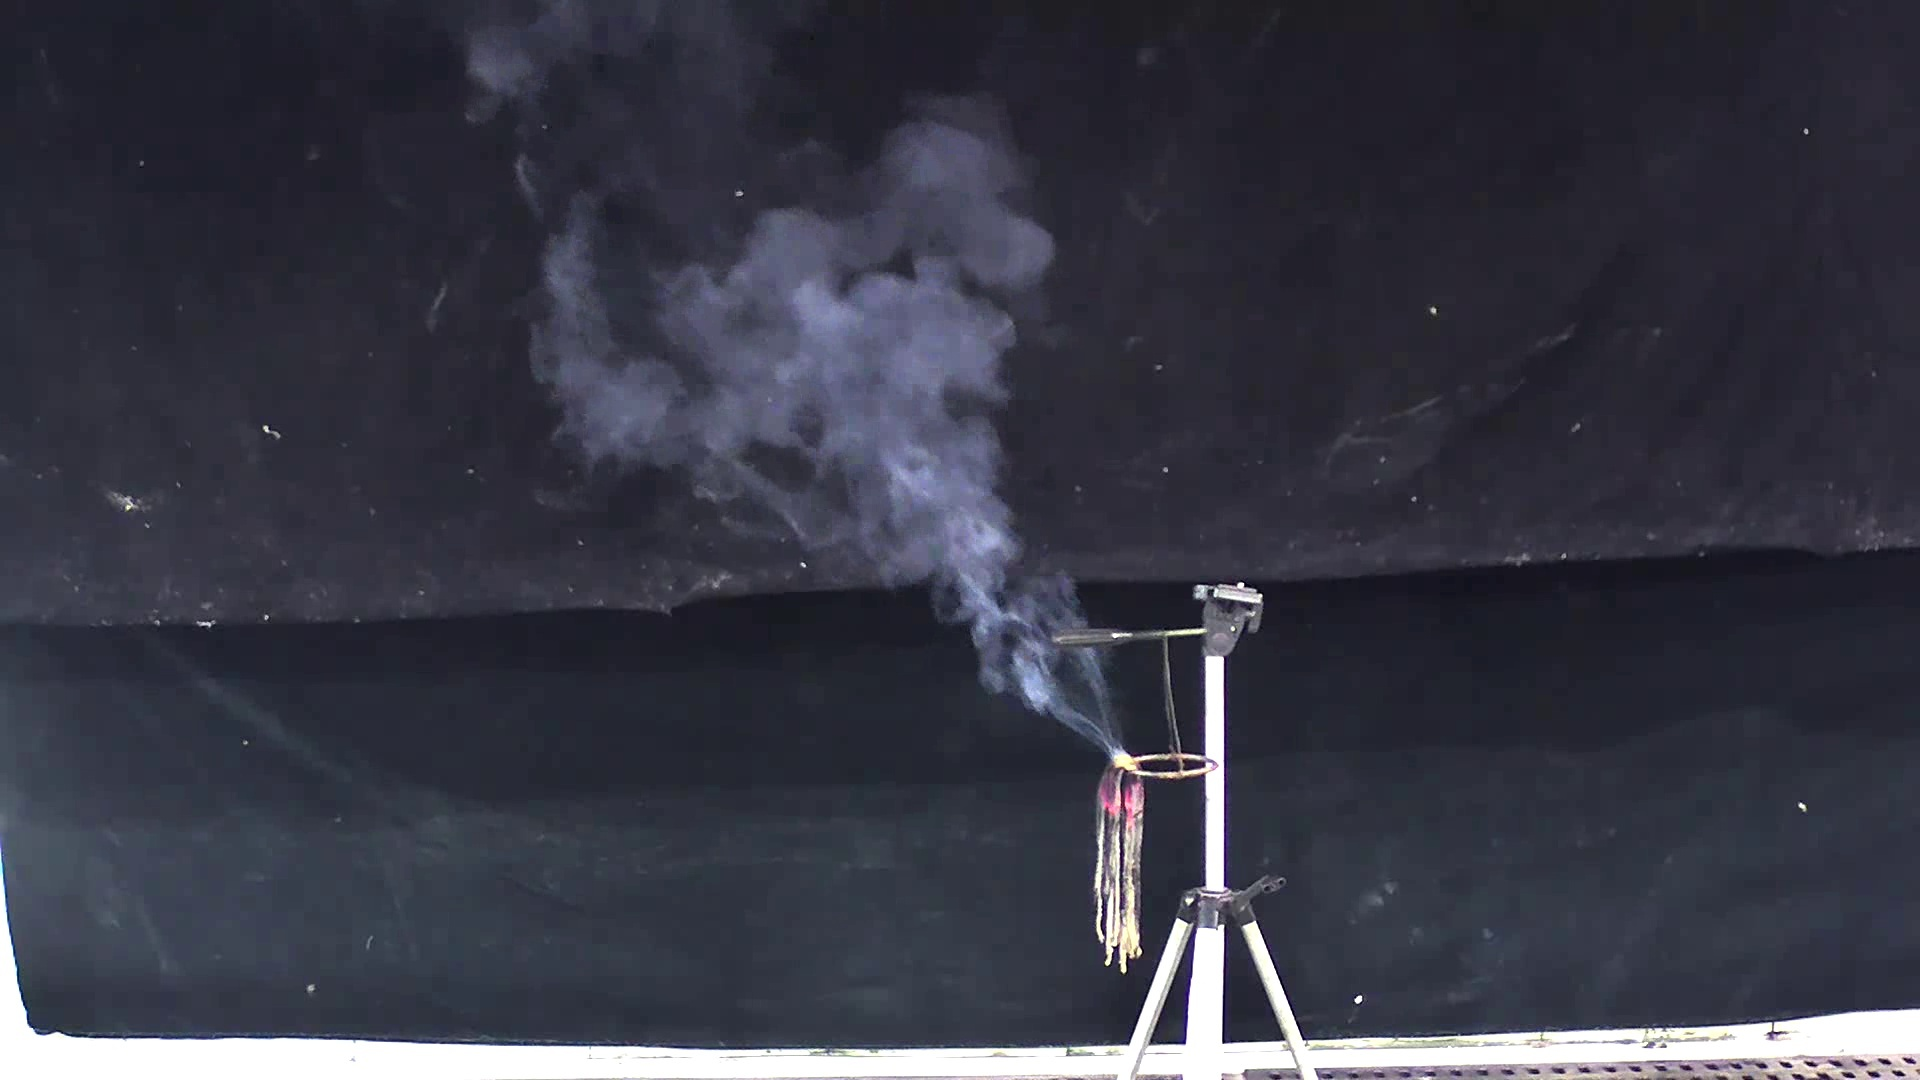smoke: (450, 11, 1131, 767)
